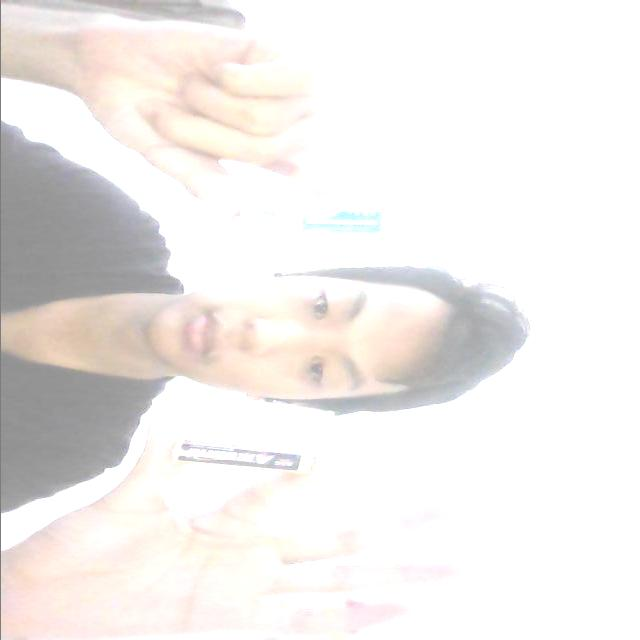AAA: (226, 204, 414, 238), (136, 439, 328, 471)
